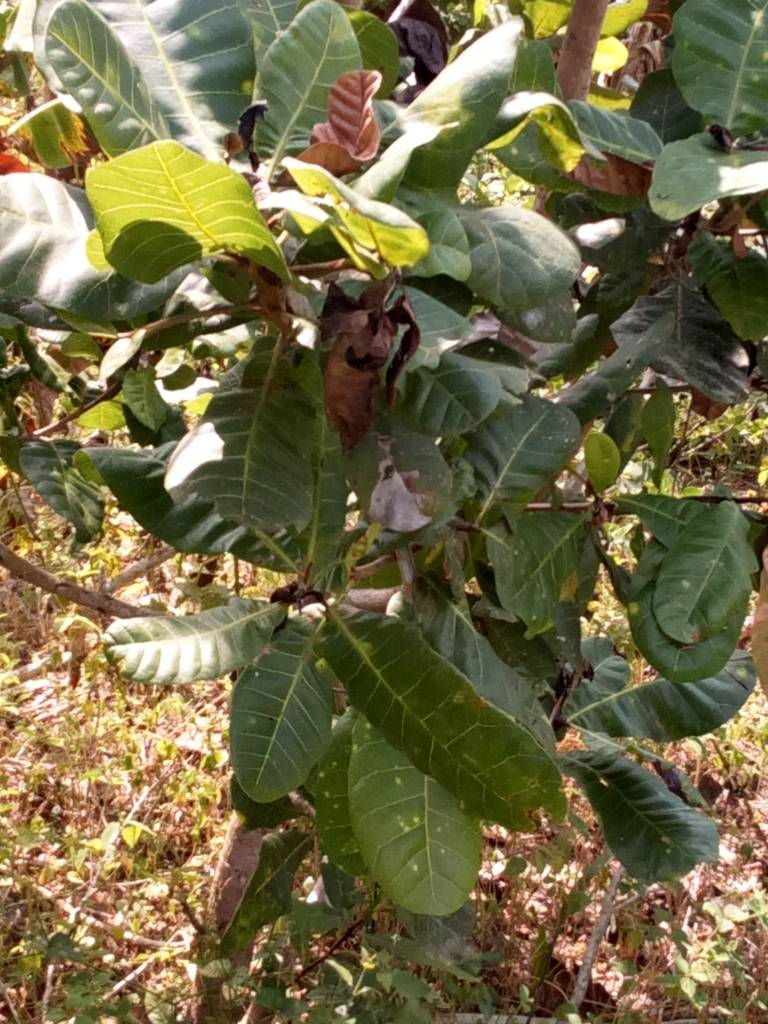Dessèchement des bourgeons: (316, 288, 414, 386)
